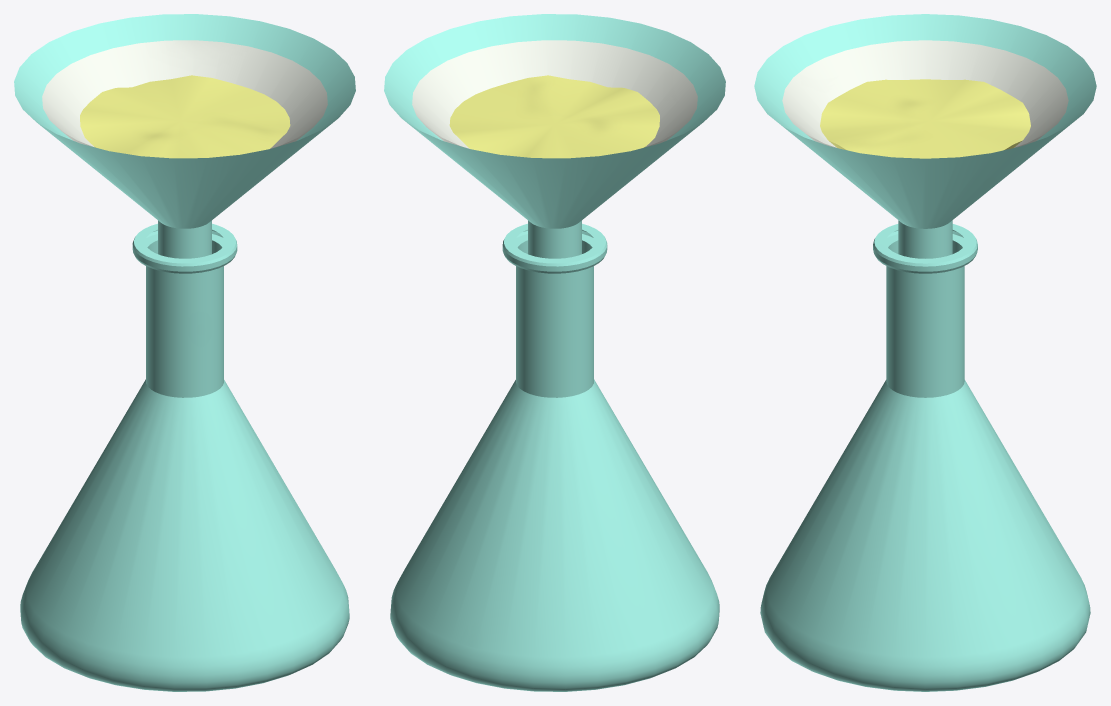
The model's file is Sedimentation.fbx.
The picture shows the model from 3 angles, left to right: view 1: azimuth 30°, elevation 25°; view 2: azimuth 150°, elevation 25°; view 3: azimuth 270°, elevation 25°; orthographic projection.
Parts seen in each view (by area): view 1: Flask, Filtered_liquid_sediments, Filter_paper; view 2: Flask, Filtered_liquid_sediments, Filter_paper; view 3: Flask, Filtered_liquid_sediments, Filter_paper.
Boxes of the visible parts, <box> form: Flask: <box>14,14,355,691</box>; Filtered_liquid_sediments: <box>80,75,290,158</box>; Filter_paper: <box>42,40,327,148</box>; Flask: <box>384,14,725,691</box>; Filtered_liquid_sediments: <box>449,75,659,158</box>; Filter_paper: <box>412,40,697,148</box>; Flask: <box>754,14,1096,691</box>; Filtered_liquid_sediments: <box>820,79,1030,158</box>; Filter_paper: <box>782,40,1068,147</box>.
Size of the model in its own units: 605 by 1054 by 605.
